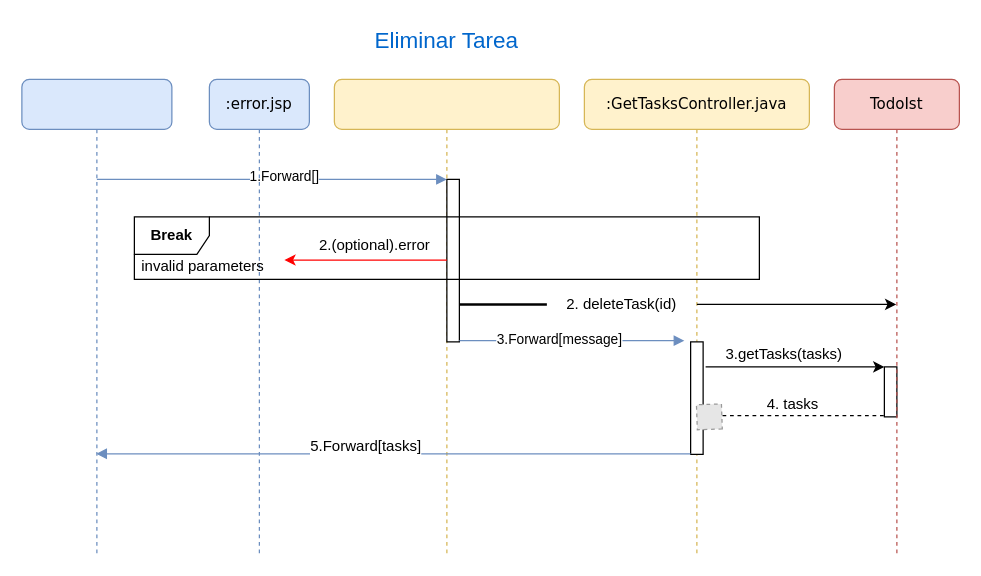
This 981x576 diagram has some shape labels left out. Grey dashed boxes stand in for pictures. Each missing label, with the box of its shape:
:DeleteTaskController.java: (333, 78, 559, 554)
:listaTareas.jsp: (21, 78, 172, 554)
